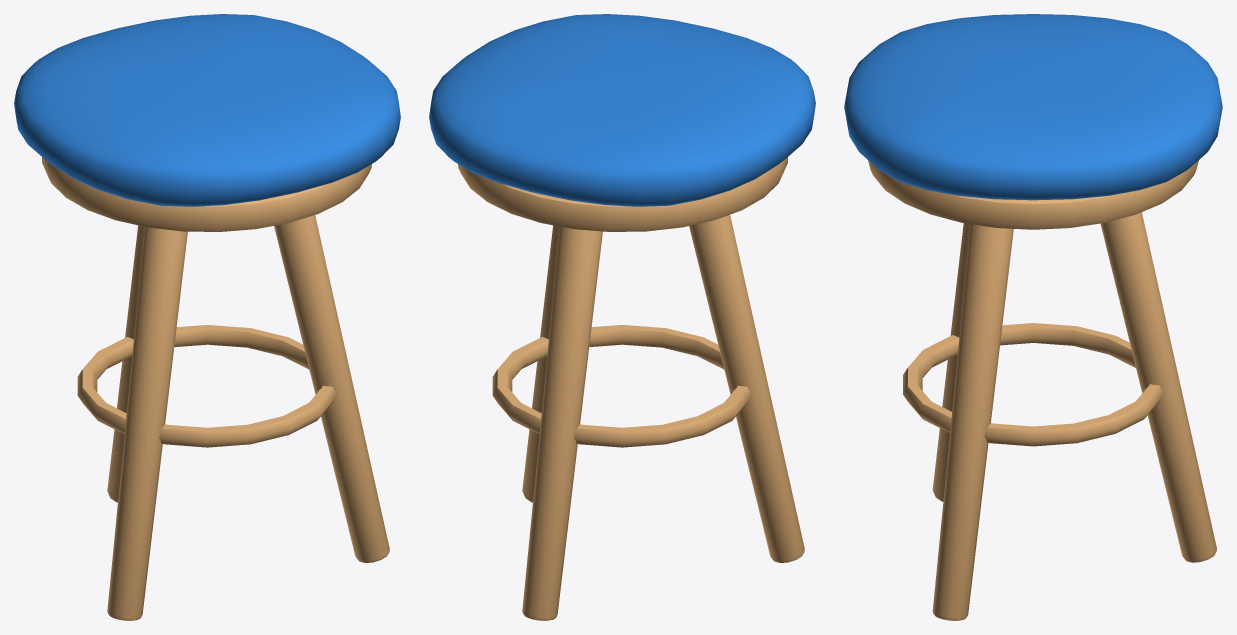
The model's file is banqueta_campestre_azul.glb.
The picture shows the model from 3 angles, left to right: view 1: azimuth 30°, elevation 25°; view 2: azimuth 150°, elevation 25°; view 3: azimuth 270°, elevation 25°; orthographic projection.
Visible parts, largest first — view 1: banqueta_campestre_azul; view 2: banqueta_campestre_azul; view 3: banqueta_campestre_azul.
Boxes of the visible parts, x1,y1,x2,y2 form: banqueta_campestre_azul: (14, 14, 400, 620); banqueta_campestre_azul: (429, 14, 815, 620); banqueta_campestre_azul: (844, 14, 1222, 620).
Bounding box in the file's own units: 0.34 × 0.4825 × 0.34.
Materials: 1 (1 with a texture image).
